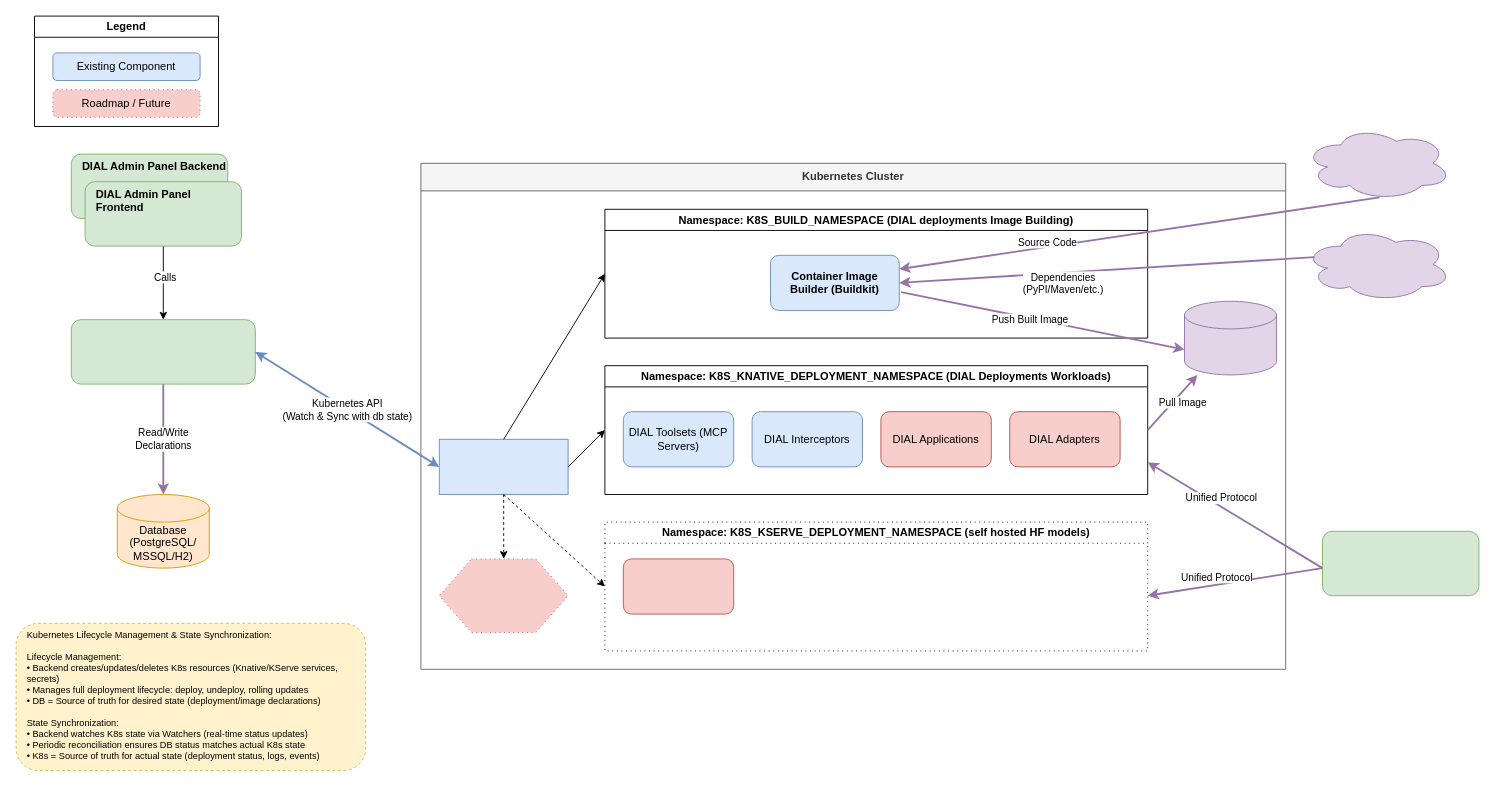
Image size: 1495x787. Some labels were removed from this diagram. The centre of each missing label's shape, as x and y in pixels:
"Cilium (Network Security)" goes at [503,595].
"DIAL Core" goes at [1400,563].
"DIAL Deployment Manager Backend" goes at [162,351].
"KServe HF Model Serving" goes at [678,586].
"Kubernetes API Server" goes at [503,466].
"Private Container Registry" goes at [1230,337].
"Public Network (PyPI/Maven/DockerHub)" goes at [1377,264].
"Version Control System (Git)" goes at [1377,163].
